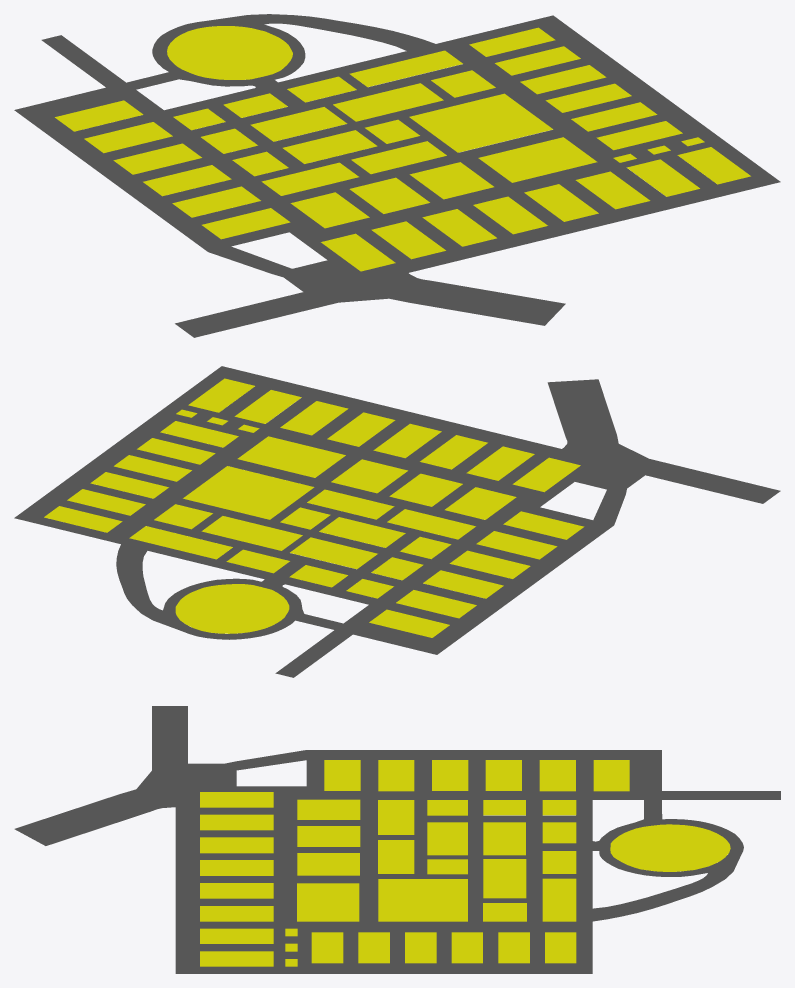
File: Map draft 1.fbx
3 renders of one model, top to bottom at view 1: azimuth 30°, elevation 25°; view 2: azimuth 150°, elevation 25°; view 3: azimuth 270°, elevation 25°, orthographic. The views are drawn at different scales.
Visible parts, largest first — view 1: Roads1, Sidewalks; view 2: Roads1, Sidewalks; view 3: Roads1, Sidewalks.
Boxes of the visible parts, x1,y1,x2,y2 form: Roads1: [14, 14, 780, 337]; Sidewalks: [55, 26, 750, 271]; Roads1: [14, 366, 780, 677]; Sidewalks: [44, 378, 584, 637]; Roads1: [14, 706, 780, 973]; Sidewalks: [200, 760, 730, 966].
Size of the model in its own units: 17.05 by 0.002 by 20.62.
